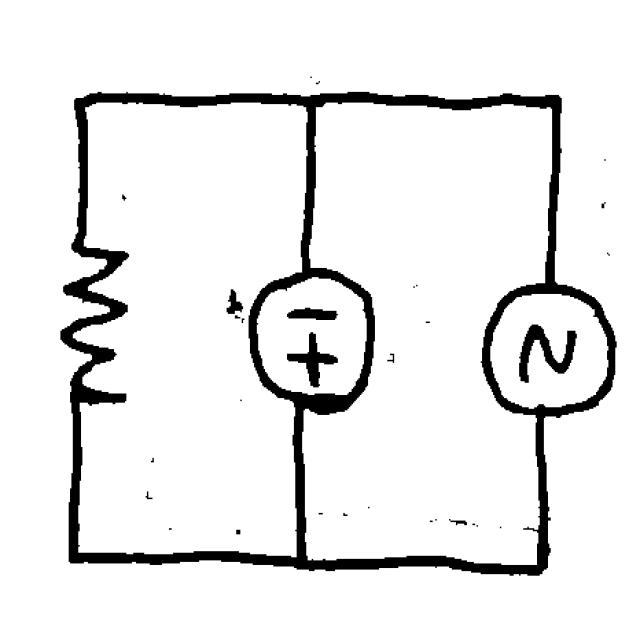ac: (470, 276, 620, 426)
dc: (233, 258, 385, 415)
resistor: (40, 225, 152, 426)
